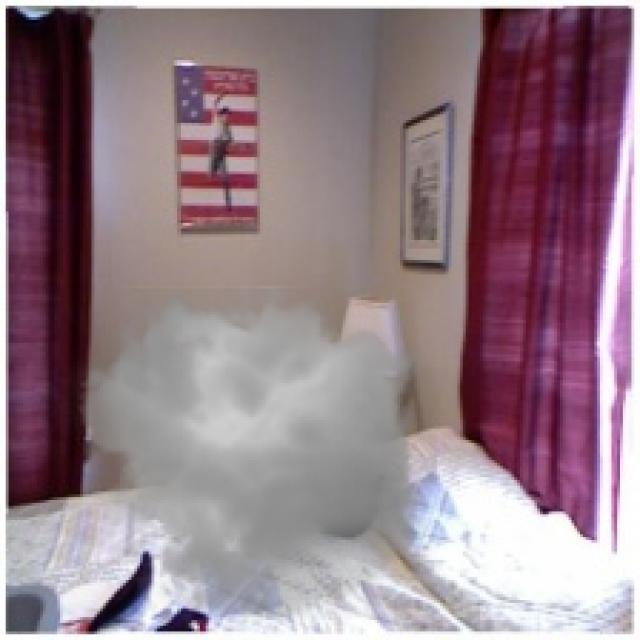smoke: (66, 272, 437, 632)
